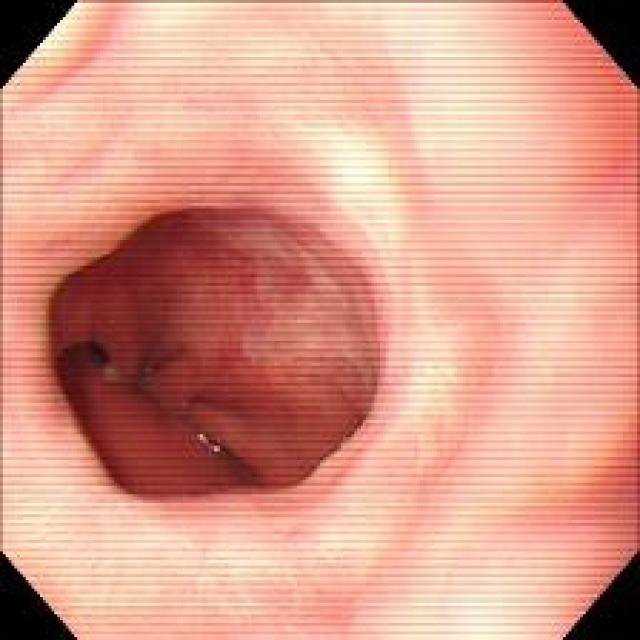blur: (1, 0, 636, 635)
color misalignment: (191, 429, 224, 456), (140, 364, 155, 379)
saturation: (374, 0, 590, 632), (4, 469, 590, 630), (6, 0, 321, 88), (296, 112, 412, 242)
